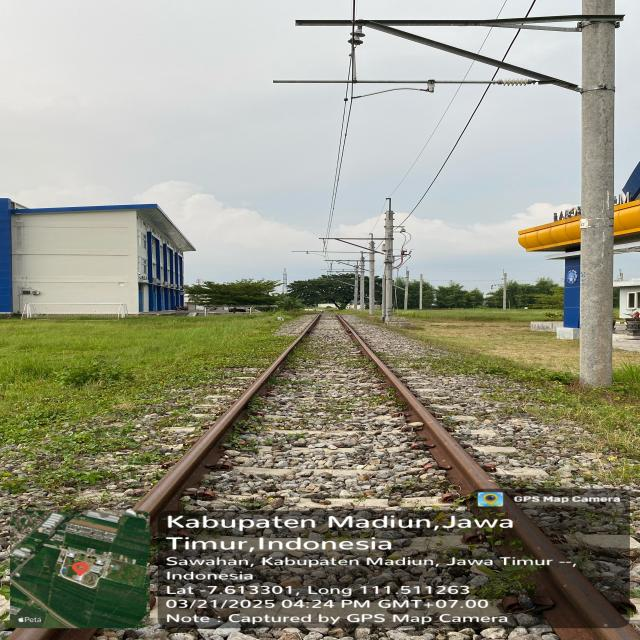rail-detection: (133, 315, 322, 534), (335, 315, 504, 495), (500, 496, 638, 640)
